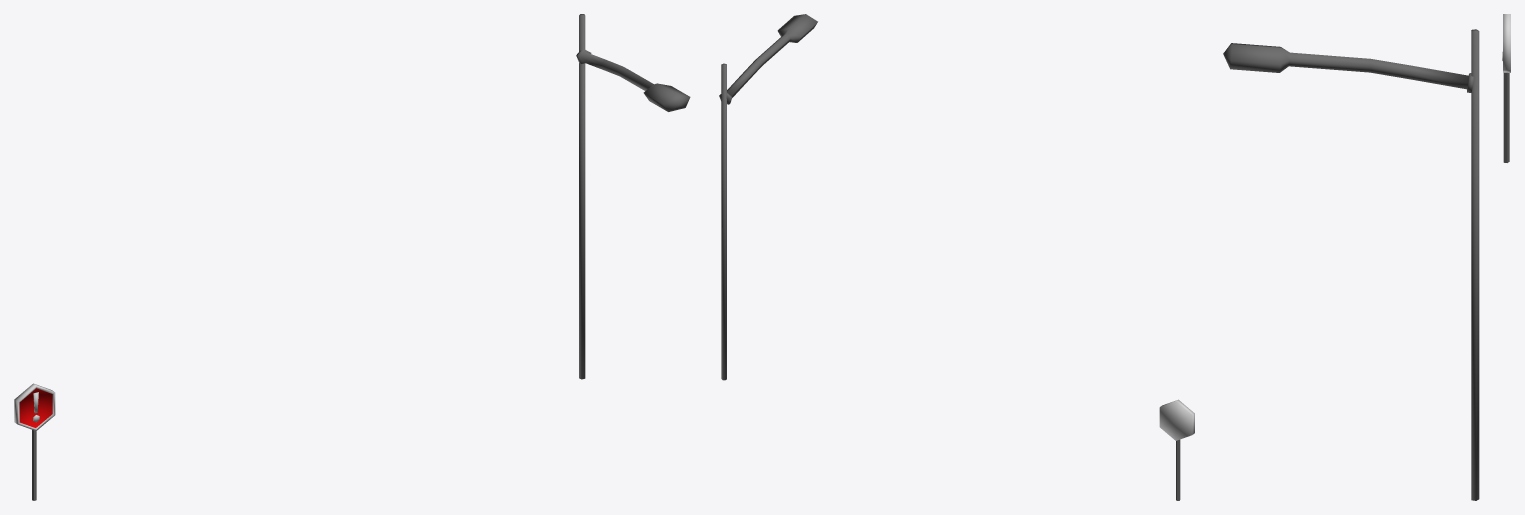
Rendered from CityProps.fbx.
The picture shows the model from 3 angles, left to right: view 1: azimuth 30°, elevation 25°; view 2: azimuth 150°, elevation 25°; view 3: azimuth 270°, elevation 25°; orthographic projection. The views are drawn at different scales.
Visible parts, largest first — view 1: Cylinder.002, Cylinder.001; view 2: Cylinder.002, Cylinder.001; view 3: Cylinder.002, Cylinder.001.
Part boxes in pixels (left/top/right/bottom): Cylinder.002: left=576, top=14, right=690, bottom=379; Cylinder.001: left=14, top=383, right=55, bottom=500; Cylinder.002: left=719, top=14, right=817, bottom=380; Cylinder.001: left=1159, top=399, right=1194, bottom=500; Cylinder.002: left=1223, top=29, right=1479, bottom=500; Cylinder.001: left=1502, top=14, right=1510, bottom=162.
Size of the model in its own units: 1378 by 841 by 469.
